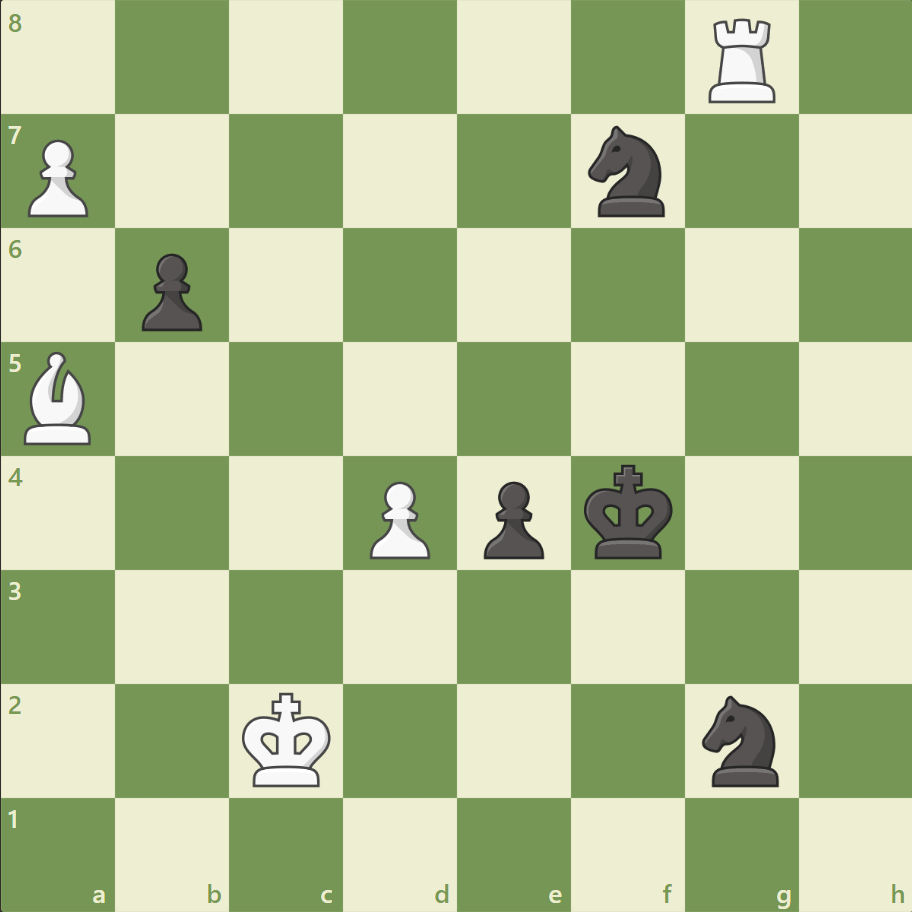B: (17, 347, 101, 449)
K: (238, 685, 338, 793)
P: (20, 132, 95, 223), (361, 473, 435, 564)
R: (700, 12, 783, 109)
k: (579, 458, 679, 566)
n: (692, 688, 789, 791), (579, 121, 676, 223)
p: (133, 246, 208, 337), (474, 473, 549, 564)
